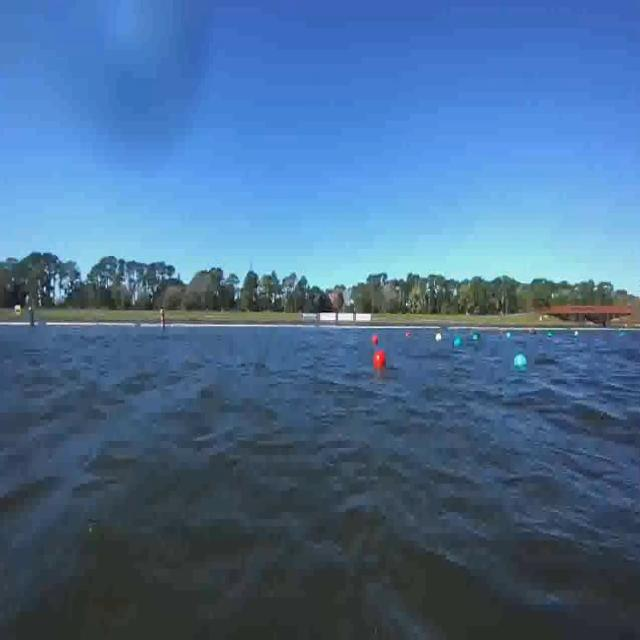green-buoy: (514, 351, 529, 370), (452, 334, 465, 349), (469, 329, 481, 343), (546, 329, 556, 341), (506, 331, 513, 340)
red-buoy: (375, 349, 387, 369), (371, 336, 378, 347), (406, 331, 412, 342)
yellow-buoy: (434, 330, 445, 345), (575, 329, 580, 339)
